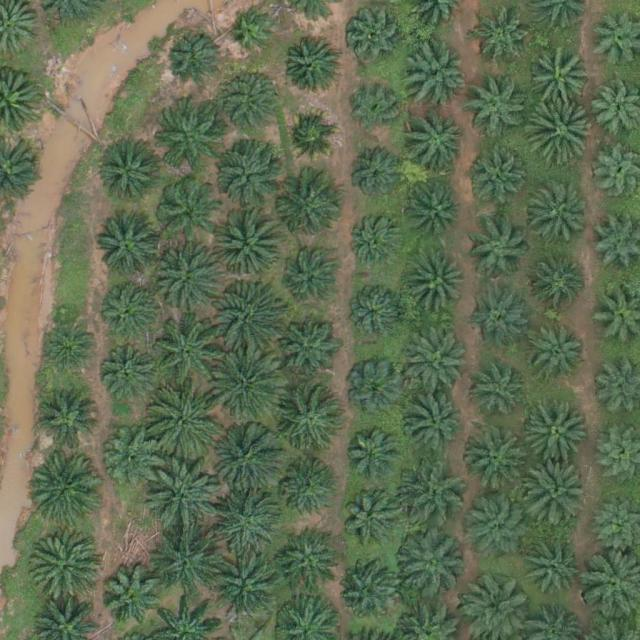Healthy: (459, 492, 530, 563), (29, 529, 100, 600), (214, 207, 285, 278), (460, 426, 530, 497), (459, 567, 530, 637), (212, 486, 282, 557), (213, 557, 283, 628), (147, 462, 217, 533), (32, 452, 102, 523), (526, 98, 596, 169), (403, 326, 473, 397), (275, 172, 345, 243), (276, 391, 346, 462), (217, 422, 287, 493), (215, 350, 285, 421), (215, 281, 285, 352), (215, 135, 285, 206), (150, 245, 221, 315), (155, 316, 225, 387), (524, 459, 594, 529), (399, 457, 469, 527), (395, 530, 465, 600), (154, 524, 224, 594), (521, 397, 591, 467), (152, 388, 222, 458), (525, 533, 588, 596), (277, 535, 340, 598), (524, 321, 587, 384), (532, 50, 595, 113), (469, 364, 532, 427), (344, 359, 407, 422), (336, 562, 398, 625), (100, 566, 163, 628), (465, 80, 527, 143), (466, 149, 528, 212), (468, 217, 530, 280), (408, 44, 470, 107), (407, 109, 469, 172), (404, 393, 467, 455), (277, 321, 339, 384), (153, 109, 215, 172), (157, 179, 219, 242), (102, 427, 165, 489), (98, 275, 160, 338), (98, 218, 160, 281), (102, 139, 164, 202), (37, 388, 99, 451), (525, 182, 587, 244), (468, 295, 530, 357), (409, 255, 471, 317), (345, 283, 407, 345), (220, 68, 282, 130), (100, 339, 162, 401), (343, 491, 398, 546), (279, 463, 334, 518), (528, 254, 583, 309), (479, 16, 534, 71), (408, 182, 463, 237), (345, 427, 400, 482), (347, 8, 402, 63), (349, 81, 404, 136), (349, 151, 404, 206), (349, 217, 404, 272), (283, 37, 338, 92), (283, 111, 338, 166), (167, 31, 222, 86), (282, 249, 336, 304), (41, 318, 95, 373)
Small: (231, 10, 278, 57)
